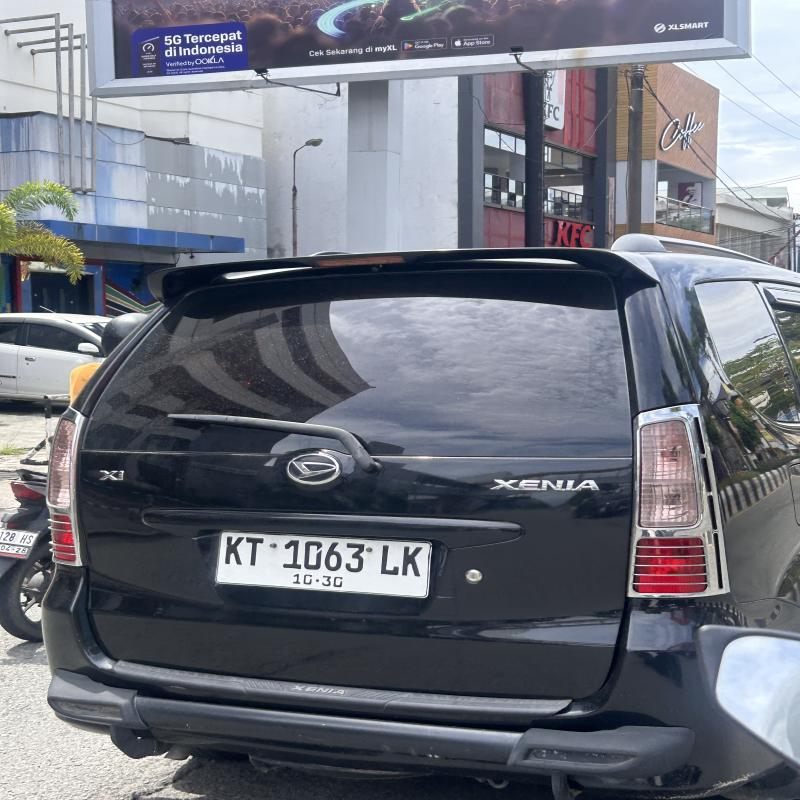license plate on a car: (215, 530, 429, 598)
